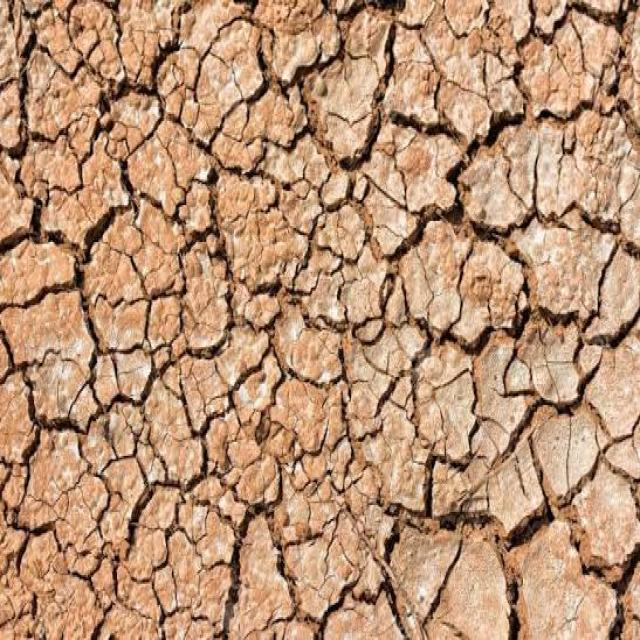suelo_seco: (152, 63, 503, 541)
